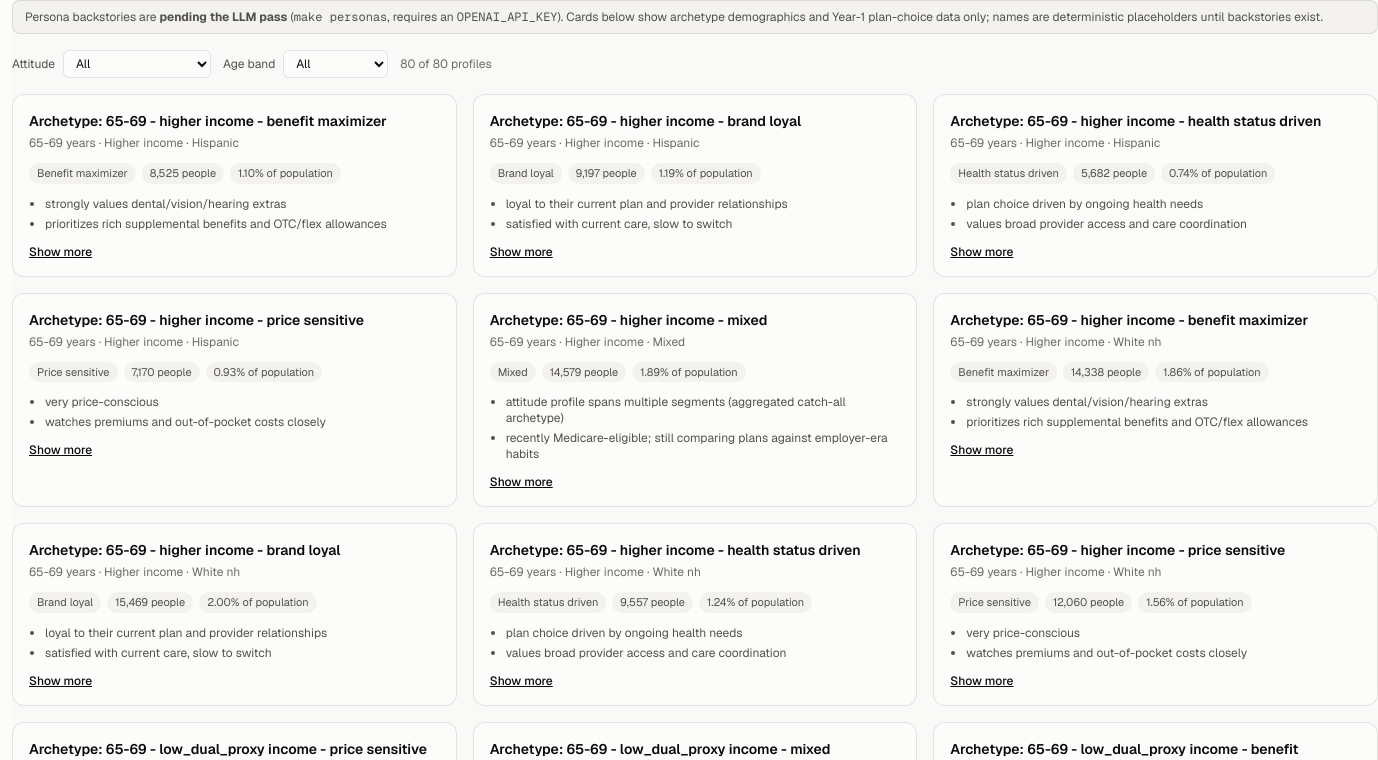
Test: PersonaCards -- personas.json unavailable (real, committed degraded state) › expanding a card with no backstory shows the muted 'Backstory pending' status, never a fabricated narrative
What coordinates should you click on to do the following:
click the button "Show more" below "8,525 people"
I would click on:
 (61, 252)
Its box is [29,244,92,260].
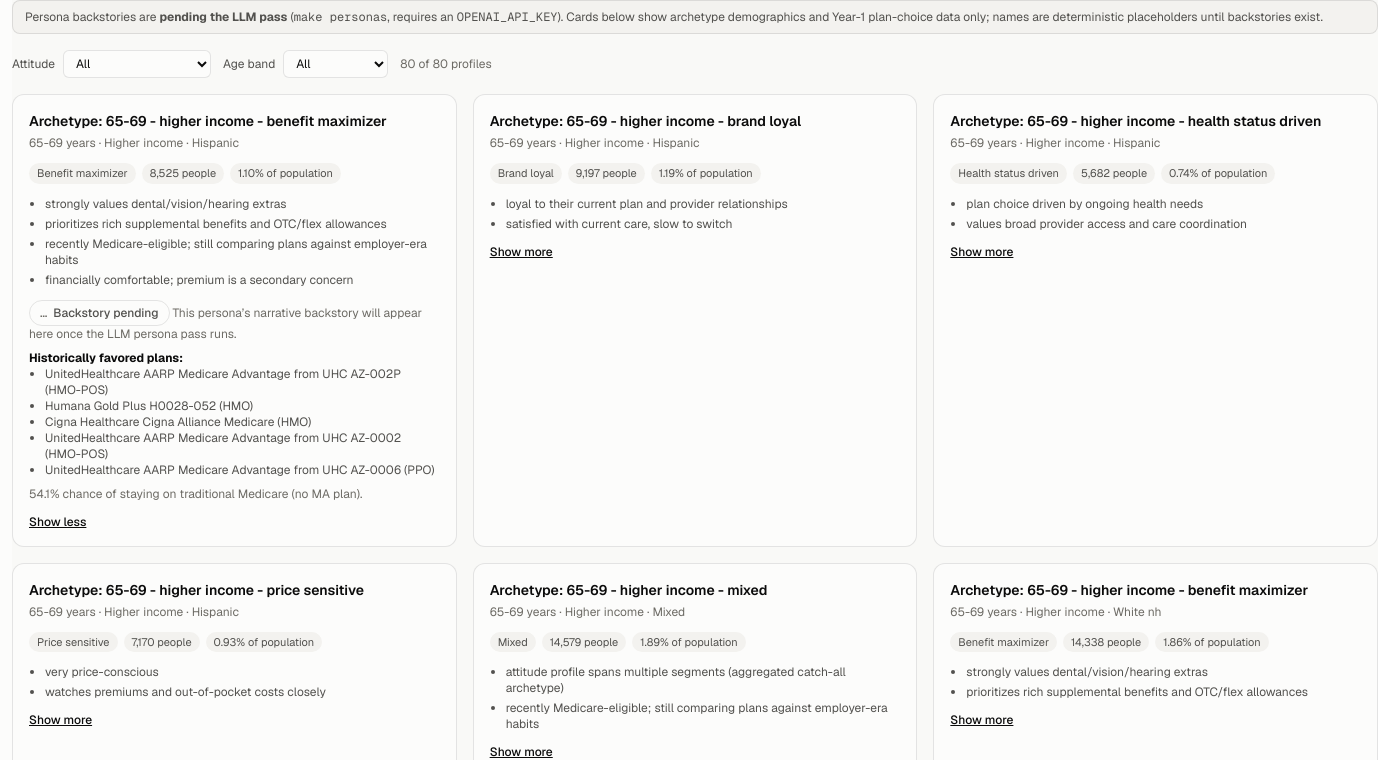
Now the text "Backstory pending" is shown, box [53,304,159,320]
Now the text "narrative backstory will" is shown, box [29,304,422,342]
